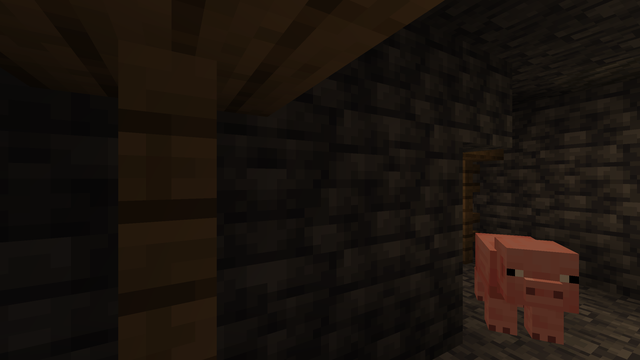cochons: (463, 230, 577, 350)
